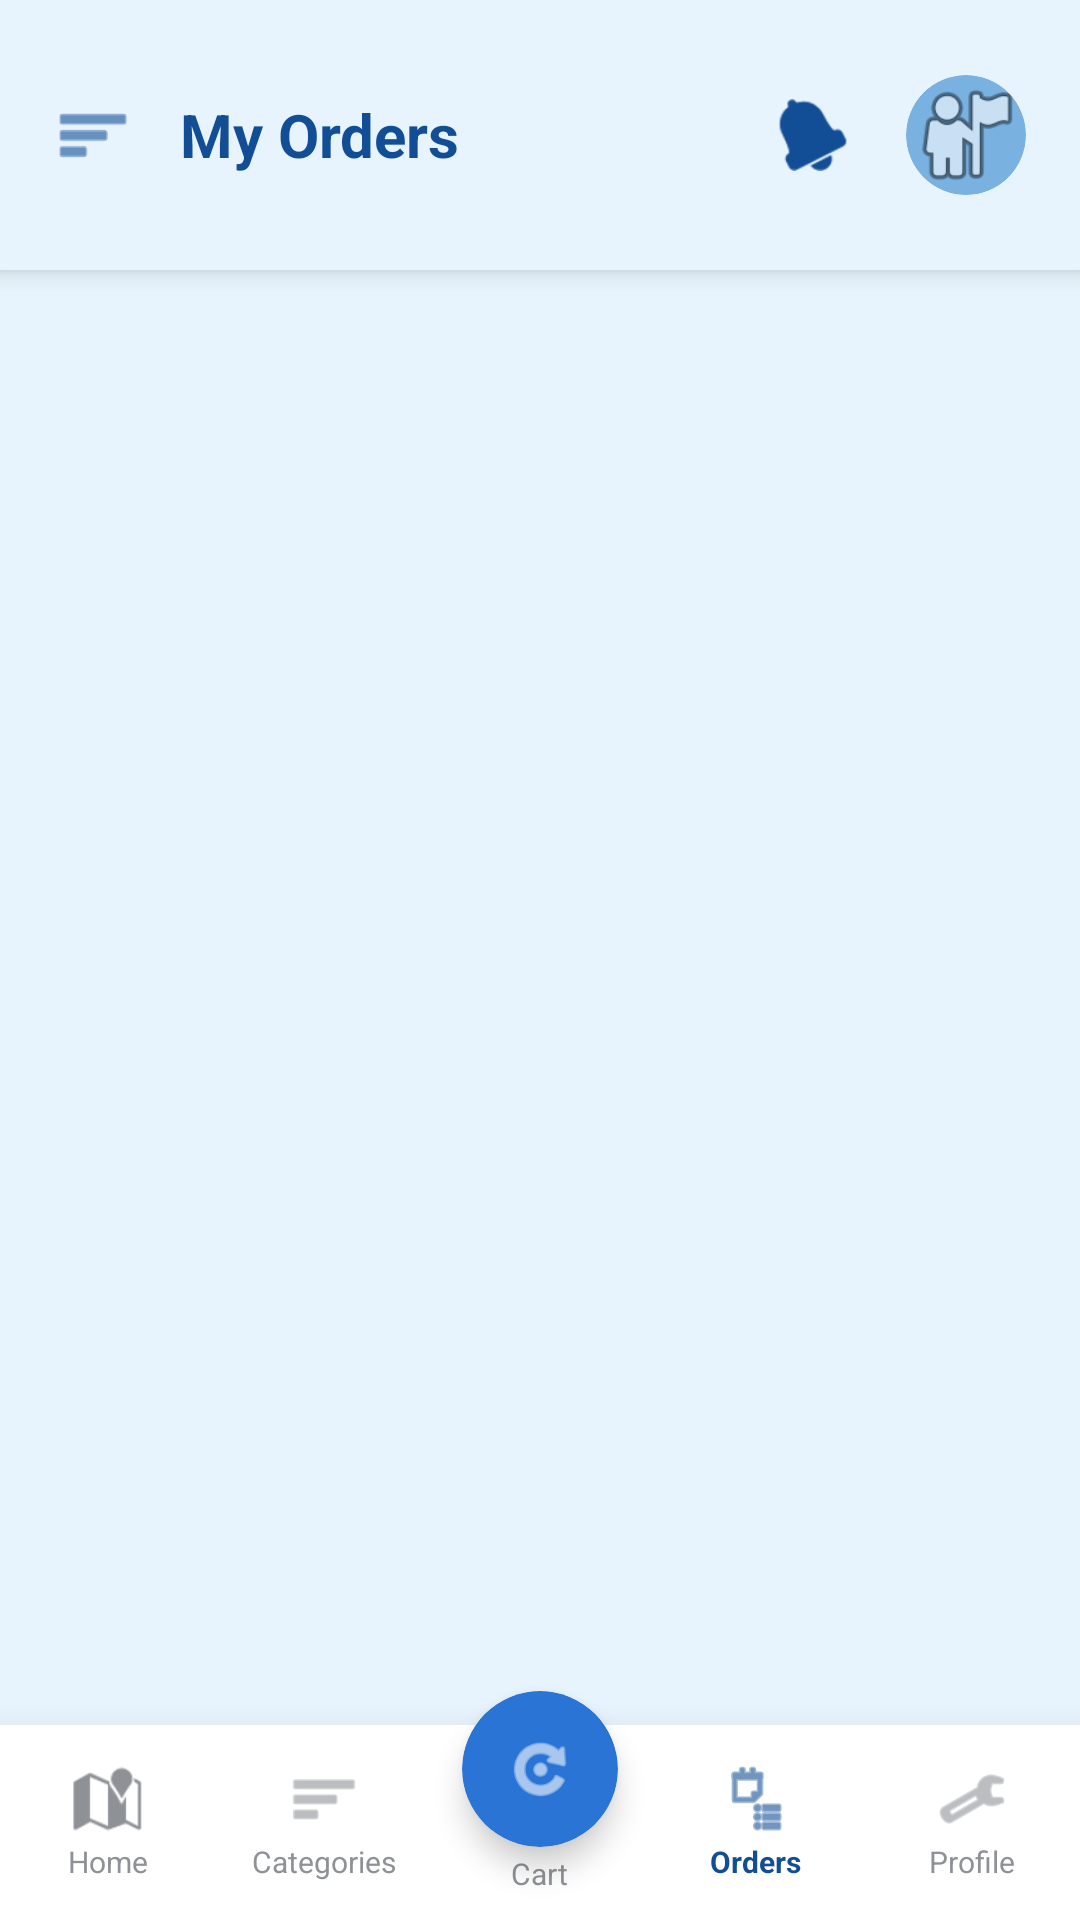

Icon bounding boxes for this 1080px x 1920px phone screenshot, format box(x1, y1, x2, y2):
agenda: box(731, 1767, 782, 1831)
manage: box(940, 1774, 1004, 1823)
map: box(73, 1767, 142, 1830)
myplaces: box(906, 75, 1026, 195)
popup reminder: box(779, 99, 847, 171)
rotate: box(514, 1742, 566, 1796)
sort by size: box(59, 114, 127, 157), box(293, 1779, 355, 1819)
